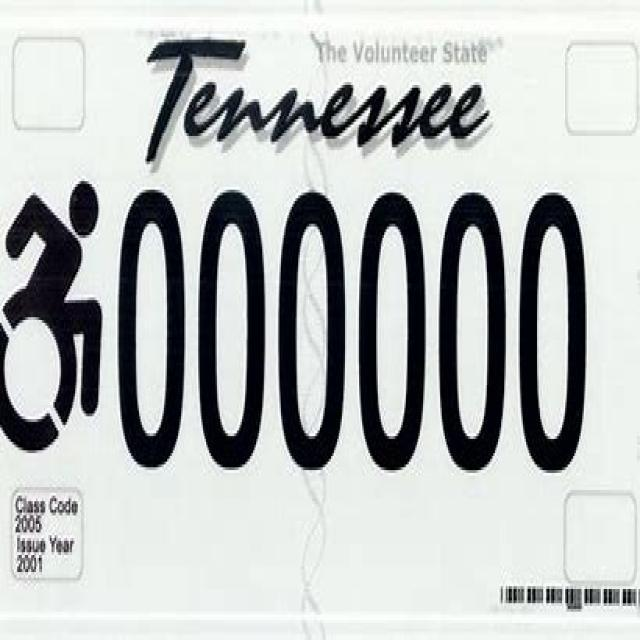symbol_of_access: (0, 171, 106, 461)
